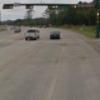traffic lights: (3, 4, 13, 9)
